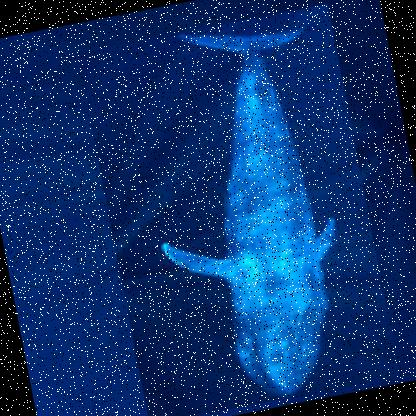blue_whale: (76, 1, 401, 415)
